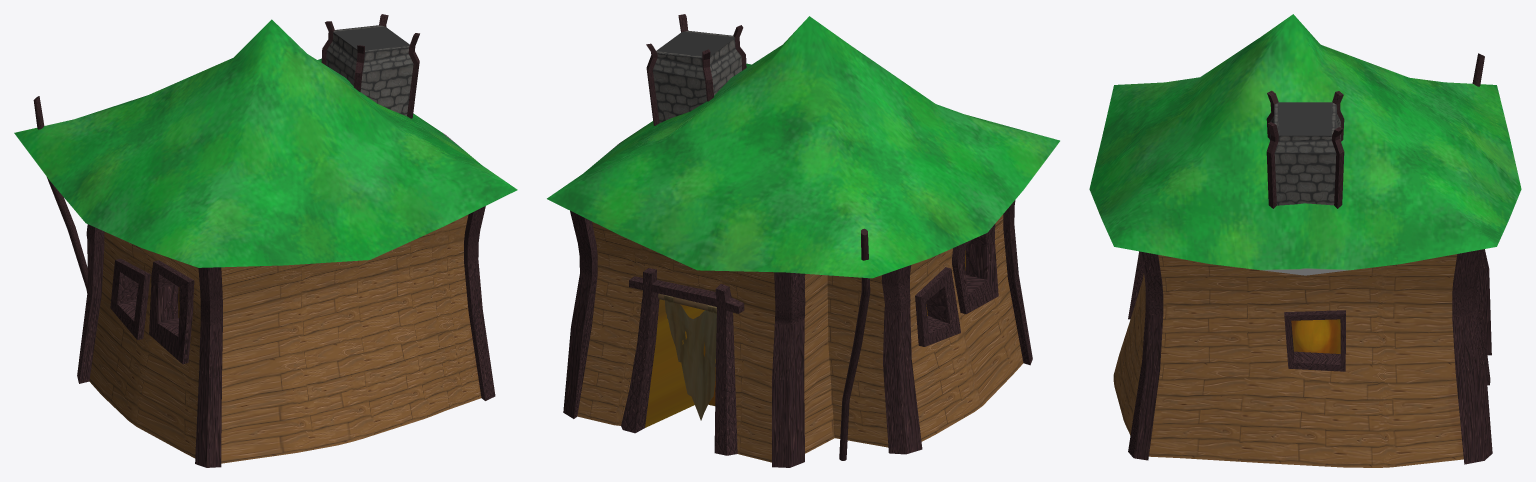
Rendered from cabana.fbx.
3 renders of one model, left to right at view 1: azimuth 30°, elevation 25°; view 2: azimuth 150°, elevation 25°; view 3: azimuth 270°, elevation 25°, orthographic. The views are drawn at different scales.
Visible parts, largest first — view 1: cabana1; view 2: cabana1; view 3: cabana1.
Part boxes in pixels (box(x1,y1,x2,y2)): cabana1: box(14, 14, 517, 467); cabana1: box(547, 14, 1059, 467); cabana1: box(1089, 14, 1521, 467).
Size of the model in its own units: 6.61 by 6.3 by 6.61.
